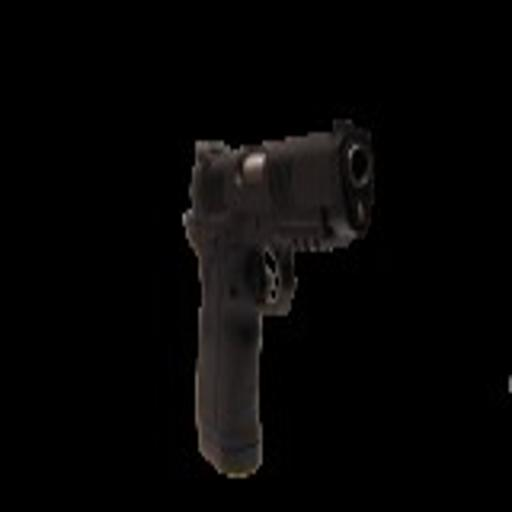Handgun: (175, 114, 379, 481)
